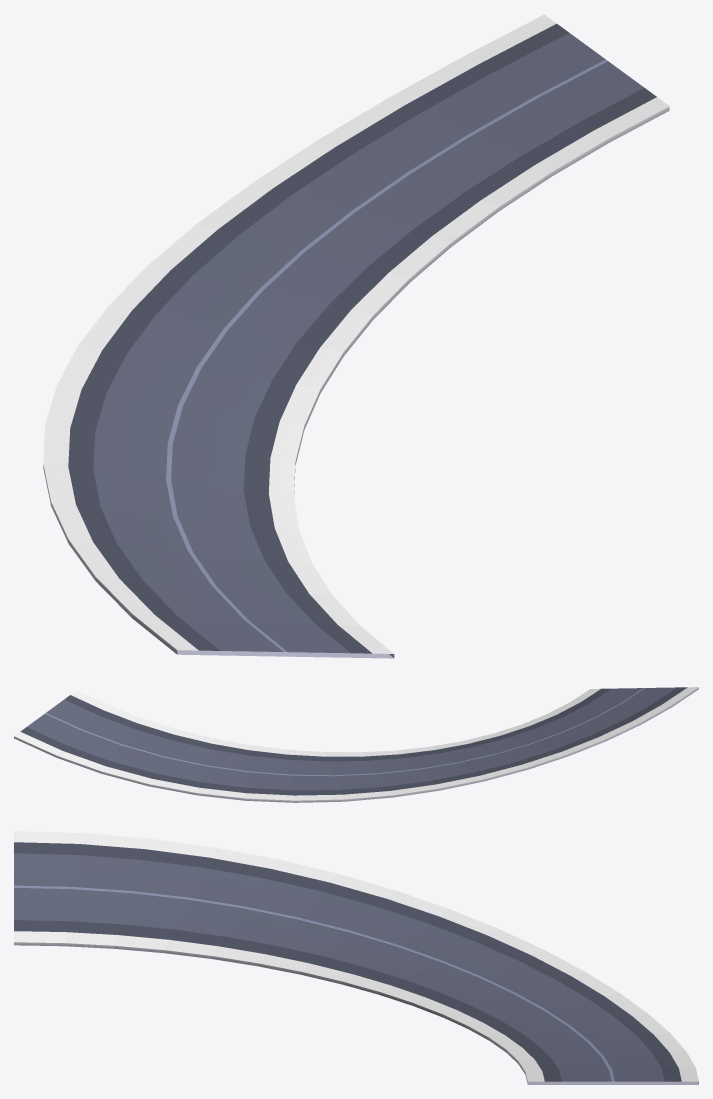
The model's file is road-Turn-HalfBankedRight-BiSlopeUp-Up2-Right-Size4.glb.
3 views of the same model, one above another, from view 1: azimuth 30°, elevation 25°; view 2: azimuth 150°, elevation 25°; view 3: azimuth 270°, elevation 25° (orthographic). The views are drawn at different scales.
Parts seen in each view (by area): view 1: road-Turn-HalfBankedRight-BiSlopeUp-Up2-Right-Size4; view 2: road-Turn-HalfBankedRight-BiSlopeUp-Up2-Right-Size4; view 3: road-Turn-HalfBankedRight-BiSlopeUp-Up2-Right-Size4.
Part boxes in pixels (x1,y1,x2,y2): road-Turn-HalfBankedRight-BiSlopeUp-Up2-Right-Size4: (43, 14, 669, 658); road-Turn-HalfBankedRight-BiSlopeUp-Up2-Right-Size4: (14, 687, 698, 802); road-Turn-HalfBankedRight-BiSlopeUp-Up2-Right-Size4: (14, 831, 698, 1084).
Bounding box in the file's own units: 4 × 0.52 × 4.
Materials: 1 (1 with a texture image).
